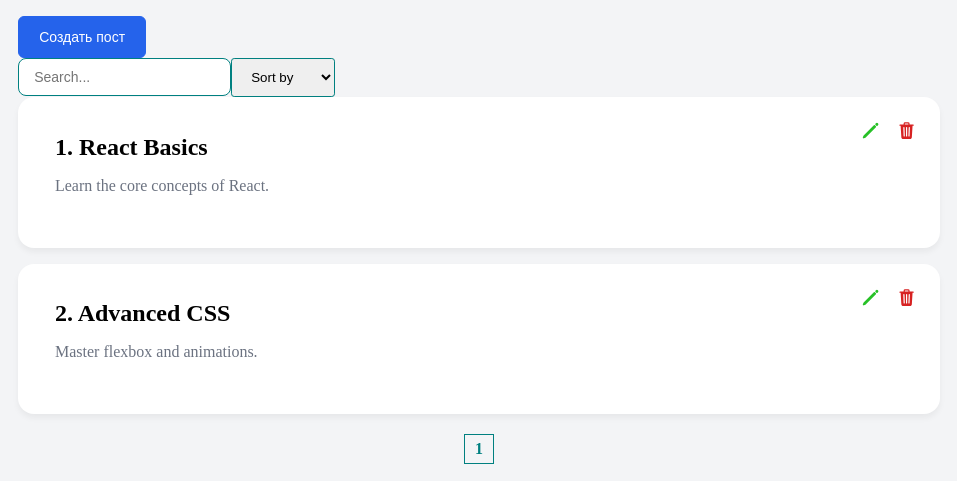
Test: Posts Component › filters posts by search query
The width and height of the screenshot is (957, 481).
Check: the heading "1. React Basics" is shown, box [55,134,208,160]
In the field with placeholder "Search...": (125,77) [18,58,231,96], type "CSS"
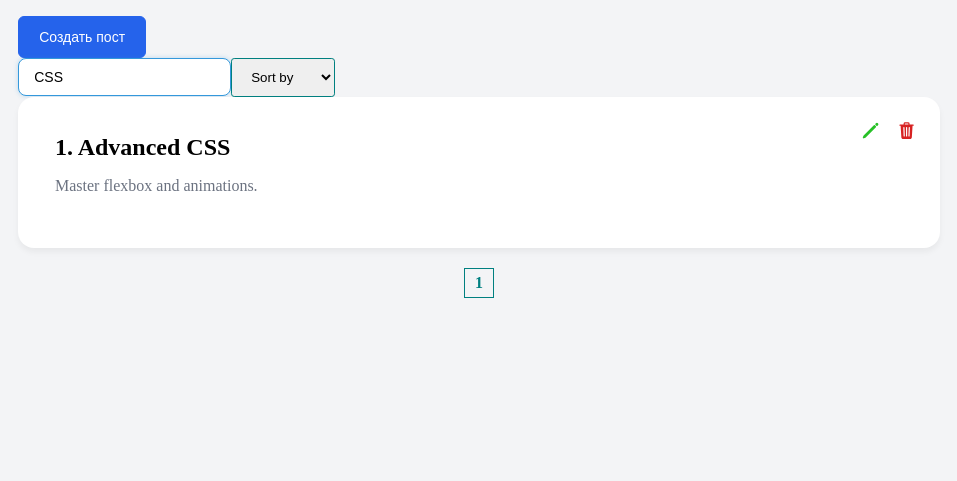
Check: the heading "1. Advanced CSS" is shown, box [55,134,230,160]
Check: the heading "React Basics" is gone
